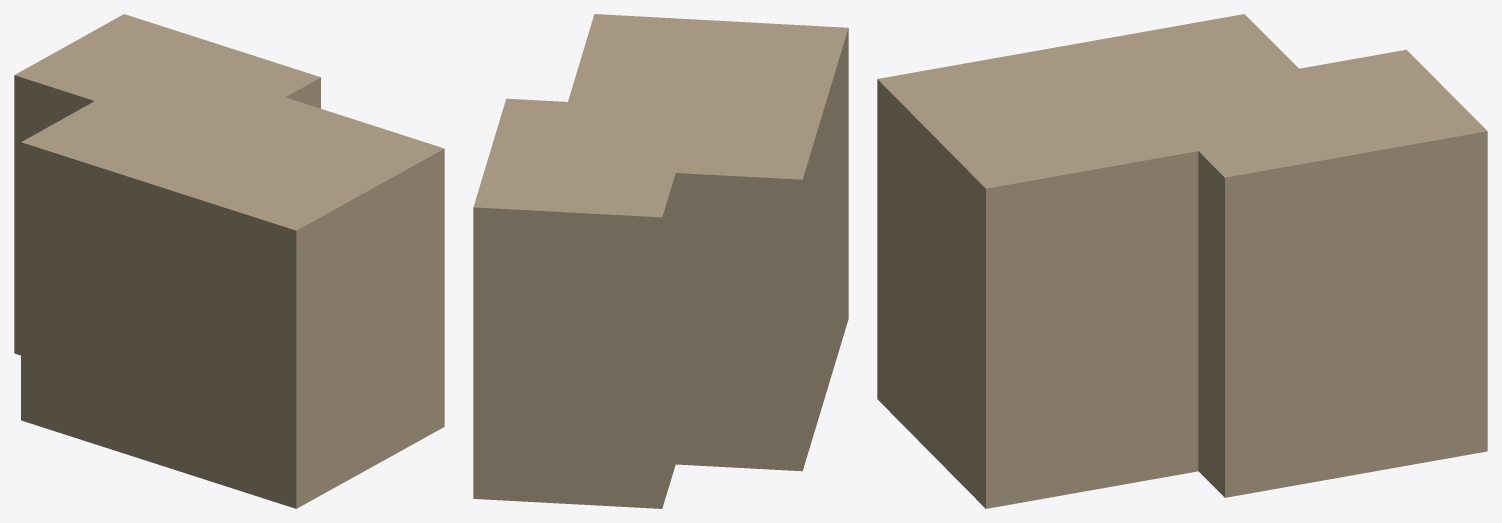
The model's file is bld_106338960.dae.
3 views of the same model, side by side, from view 1: azimuth 30°, elevation 25°; view 2: azimuth 150°, elevation 25°; view 3: azimuth 270°, elevation 25° (orthographic). The views are drawn at different scales.
Visible parts, largest first — view 1: bld_106338960; view 2: bld_106338960; view 3: bld_106338960.
Part boxes in pixels (x1,y1,x2,y2): bld_106338960: (14,14,444,508); bld_106338960: (473,14,848,508); bld_106338960: (877,14,1487,508).
Bounding box in the file's own units: 9.36 × 13.82 × 8.
